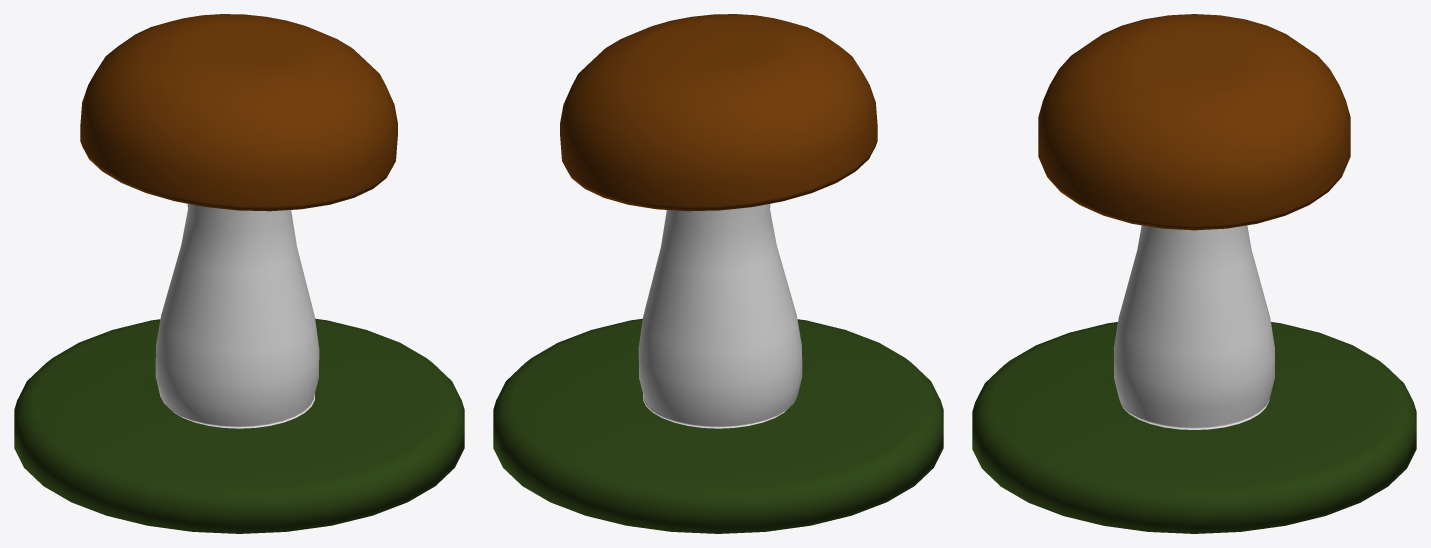
Rendered from mushroom_cattree_modell_alvin_001.fbx.
3 views of the same model, side by side, from view 1: azimuth 30°, elevation 25°; view 2: azimuth 150°, elevation 25°; view 3: azimuth 270°, elevation 25° (orthographic).
Parts seen in each view (by area): view 1: cattree; view 2: cattree; view 3: cattree.
Boxes of the visible parts, left/top/right/bottom form: cattree: left=14, top=14, right=464, bottom=533; cattree: left=493, top=14, right=943, bottom=533; cattree: left=972, top=14, right=1416, bottom=533.
Bounding box in the file's own units: 746 × 719 × 742.
